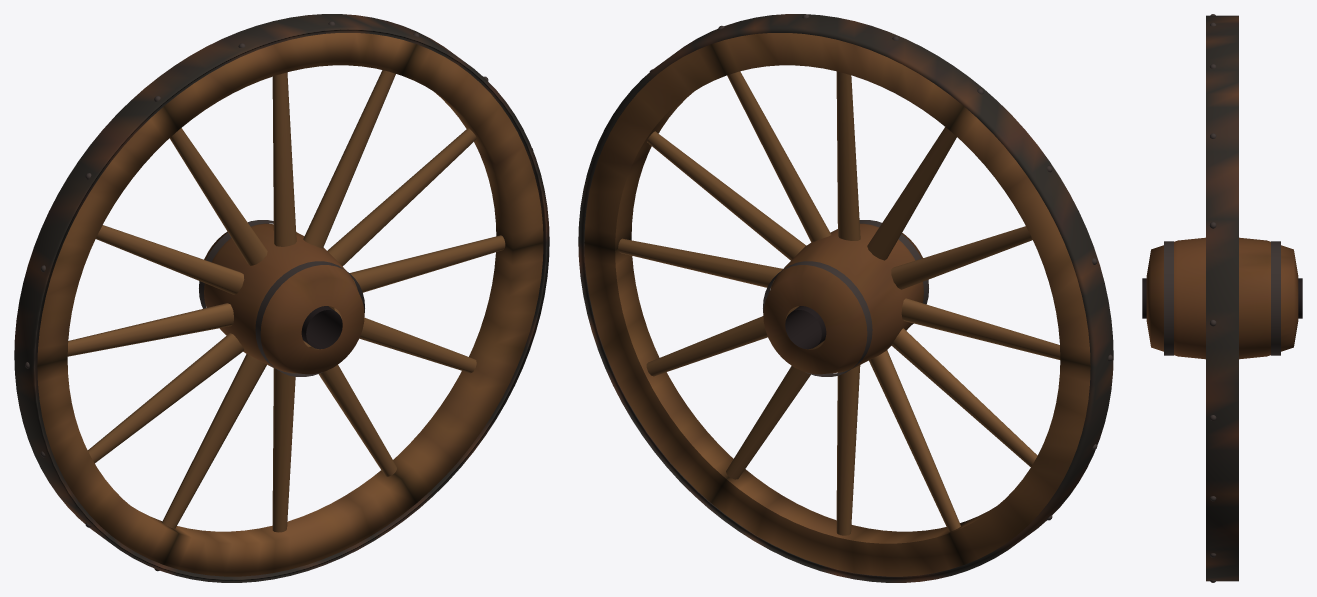
The model's file is bullock-cart-wheel.glb.
The picture shows the model from 3 angles, left to right: view 1: azimuth 30°, elevation 25°; view 2: azimuth 150°, elevation 25°; view 3: azimuth 270°, elevation 25°; orthographic projection. The views are drawn at different scales.
Visible parts, largest first — view 1: wood, iron; view 2: wood, iron; view 3: iron, wood.
Part boxes in pixels (x1,y1,x2,y2): wood: (37,33,543,576); iron: (14,14,549,582); wood: (584,33,1090,576); iron: (578,14,1113,582); iron: (1142,14,1302,582); wood: (1146,237,1298,359).
Size of the model in its own units: 1.28 by 1.27 by 0.36.
